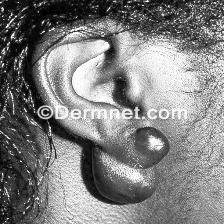Benign Marking or Mole: (128, 127, 172, 167)
